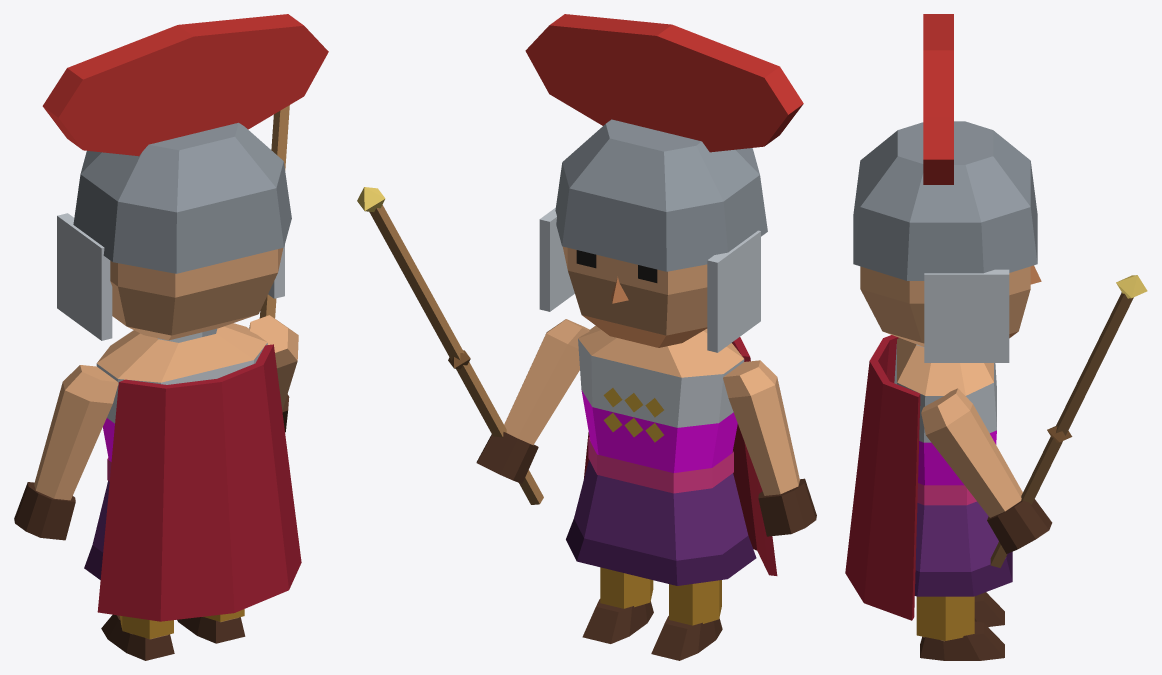
File: EN_Centurion.fbx
The picture shows the model from 3 angles, left to right: view 1: azimuth 30°, elevation 25°; view 2: azimuth 150°, elevation 25°; view 3: azimuth 270°, elevation 25°; orthographic projection. The views are drawn at different scales.
Visible parts, largest first — view 1: Head, Body, ArmL, ArmR, LegL, LegR; view 2: Head, Body, ArmR, ArmL, LegL, LegR; view 3: Head, Body, ArmR, LegR, LegL.
Part boxes in pixels (x1,y1,x2,y2): Head: (42, 14, 328, 340); Body: (84, 323, 301, 621); ArmL: (14, 365, 118, 540); ArmR: (249, 105, 298, 432); LegL: (101, 614, 174, 660); LegR: (177, 609, 245, 643); Head: (525, 14, 803, 352); Body: (566, 325, 777, 585); ArmR: (357, 187, 589, 504); ArmL: (723, 360, 816, 536); LegL: (651, 580, 722, 660); LegR: (582, 567, 653, 643); Head: (853, 14, 1041, 362); Body: (845, 335, 1012, 620); ArmR: (921, 275, 1147, 567); LegR: (916, 596, 1004, 660); LegL: (974, 592, 1004, 626).
Size of the model in its own units: 1.18 by 0.8677 by 1.85.
